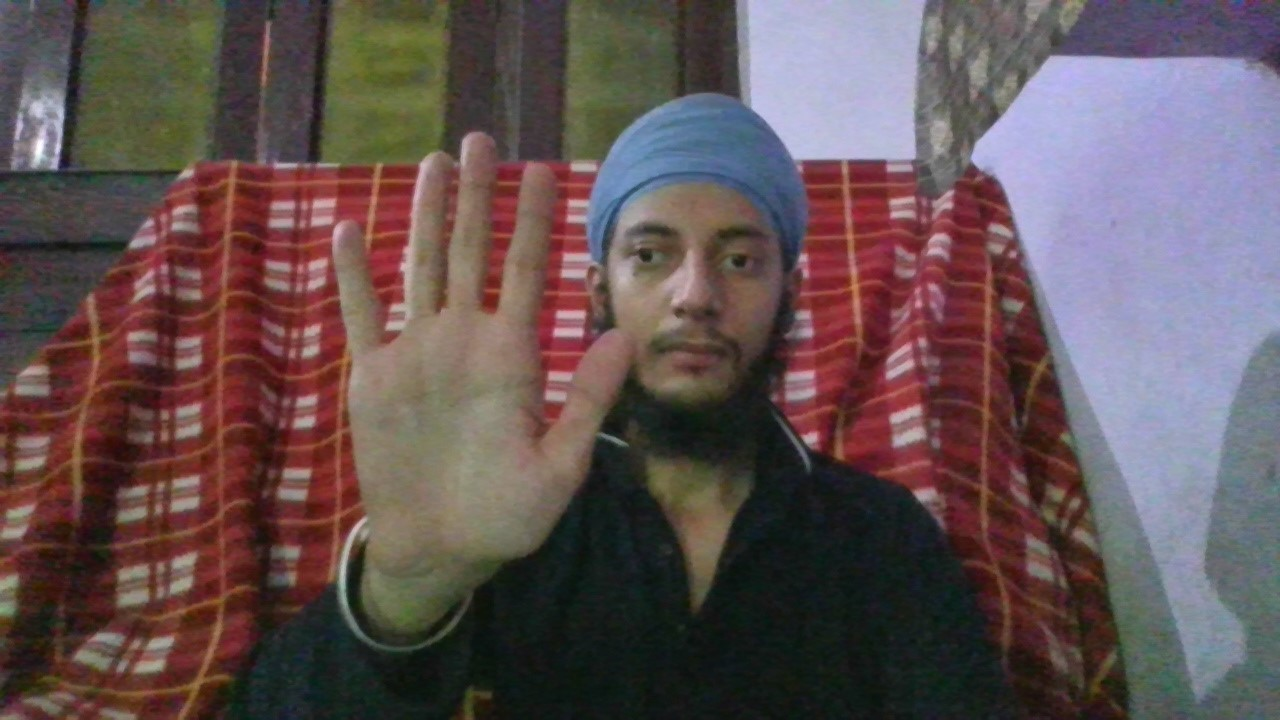Hello: (327, 128, 637, 583)
